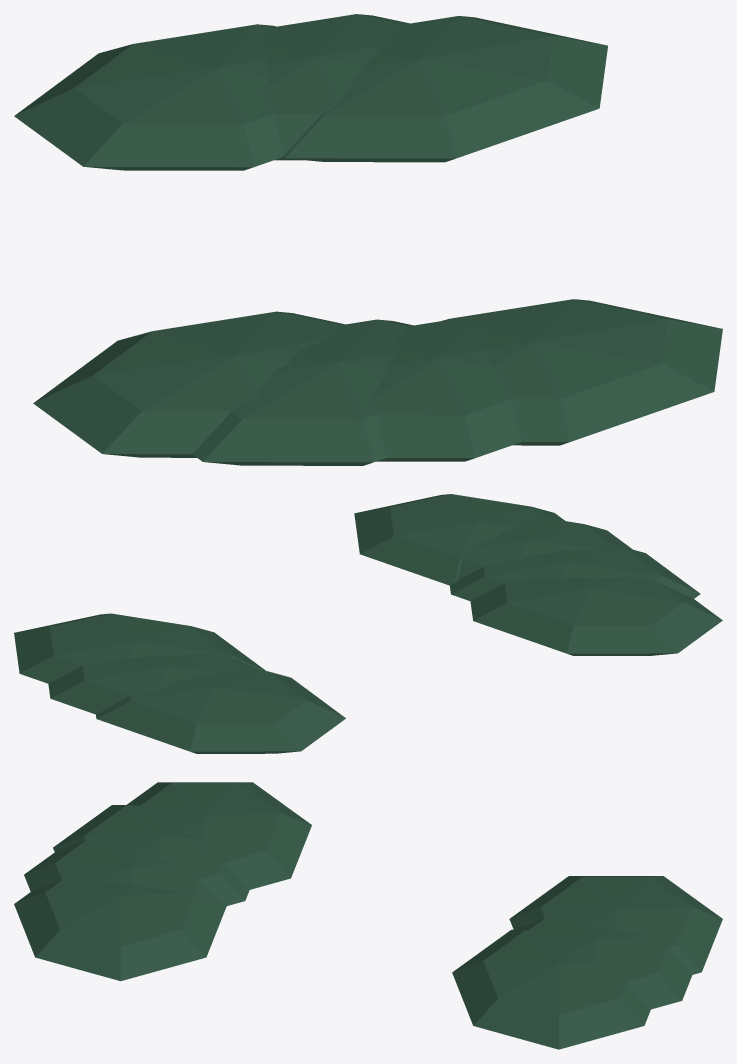
Rendered from nature-moss.lod0.glb.
3 views of the same model, one above another, from view 1: azimuth 30°, elevation 25°; view 2: azimuth 150°, elevation 25°; view 3: azimuth 270°, elevation 25° (orthographic). The views are drawn at different scales.
Parts seen in each view (by area): view 1: nature-moss__body; view 2: nature-moss__body; view 3: nature-moss__body.
Boxes of the visible parts, <box> form: nature-moss__body: <box>14,14,722,465</box>; nature-moss__body: <box>14,494,722,753</box>; nature-moss__body: <box>14,782,722,1049</box>.
Size of the model in its own units: 1.27 by 0.1 by 1.42.
